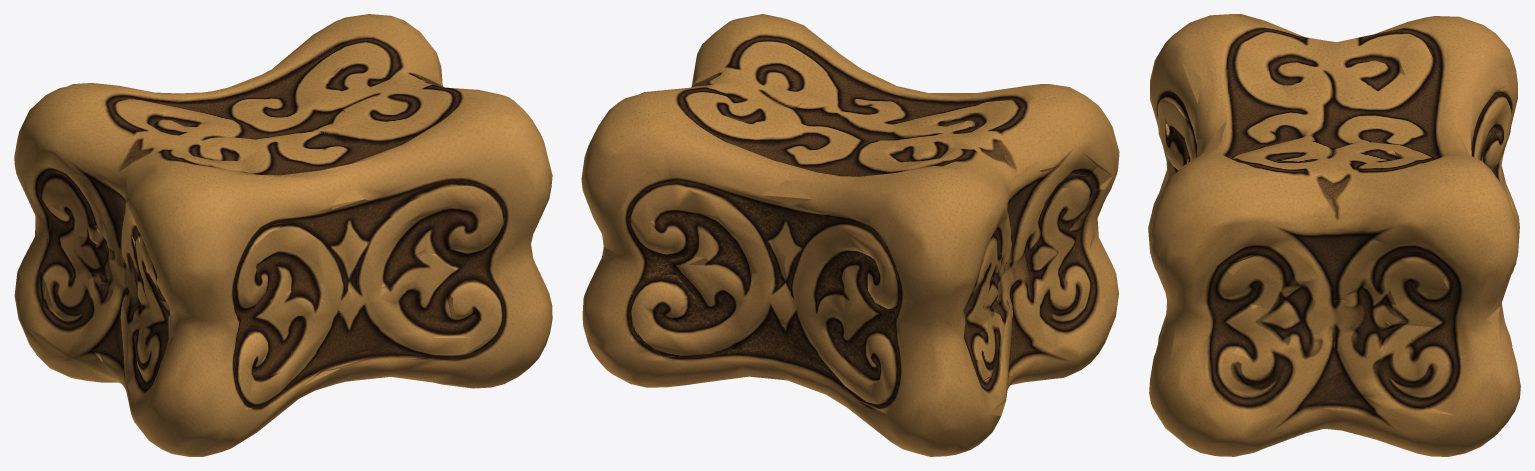
File: Khan_quad_mobile.glb
3 views of the same model, side by side, from view 1: azimuth 30°, elevation 25°; view 2: azimuth 150°, elevation 25°; view 3: azimuth 270°, elevation 25° (orthographic).
Visible parts, largest first — view 1: output_unwrapped; view 2: output_unwrapped; view 3: output_unwrapped.
Part boxes in pixels (<box>): output_unwrapped: <box>14,14,552,456</box>; output_unwrapped: <box>581,14,1119,456</box>; output_unwrapped: <box>1148,14,1520,456</box>.
Size of the model in its own units: 0.0298 by 0.02 by 0.0238.
Materials: 1 (1 with a texture image).
